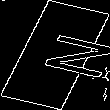N_W: (10, 28, 100, 82)
